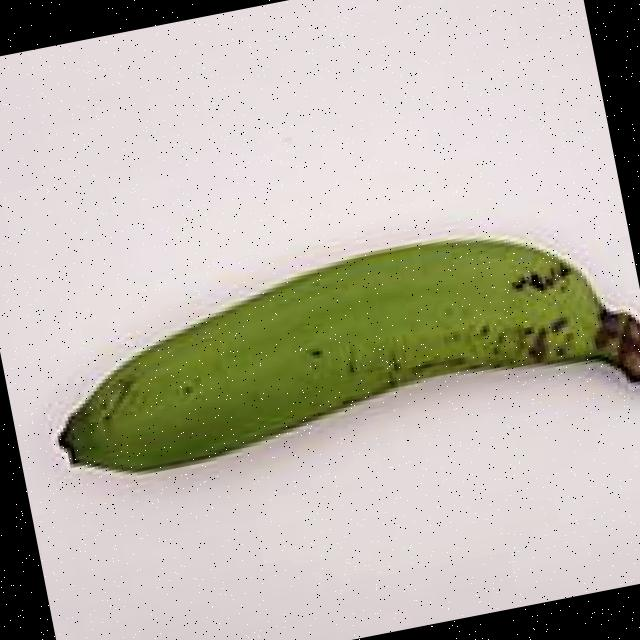Raw: (11, 172, 640, 568)
